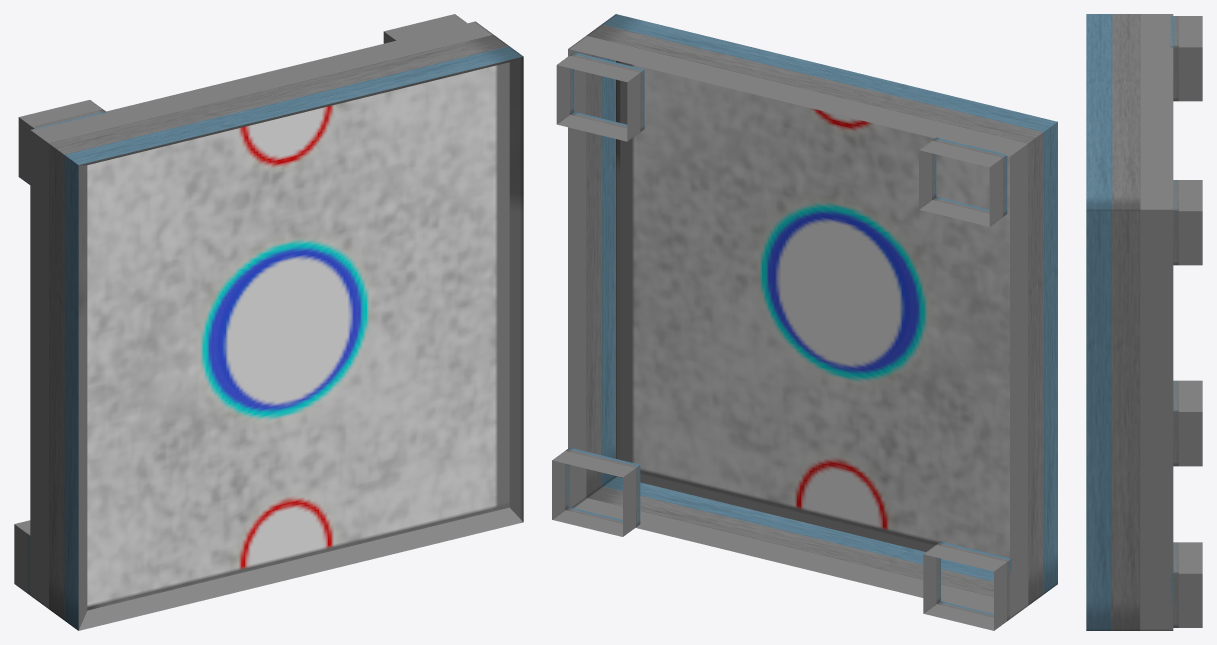
The model's file is airhockey_wtf.obj.
3 views of the same model, side by side, from view 1: azimuth 30°, elevation 25°; view 2: azimuth 150°, elevation 25°; view 3: azimuth 270°, elevation 25° (orthographic). The views are drawn at different scales.
Visible parts, largest first — view 1: group7, group6, group8, group5; view 2: group7, group6, group5, group4, group8; view 3: group7, group6, group4, group8, group5.
Part boxes in pixels (x1,y1,x2,y2): group7: (30,21,523,630); group6: (18,100,106,184); group8: (14,520,30,595); group5: (383,14,466,43); group7: (568,14,1057,618); group6: (919,137,1007,226); group5: (556,52,644,141); group4: (552,447,640,536); group8: (923,541,1011,630); group7: (1086,14,1173,630); group6: (1170,16,1202,101); group4: (1170,542,1202,627); group8: (1173,380,1202,466); group5: (1173,180,1202,265).
Size of the model in its own units: 660 by 660 by 165.
